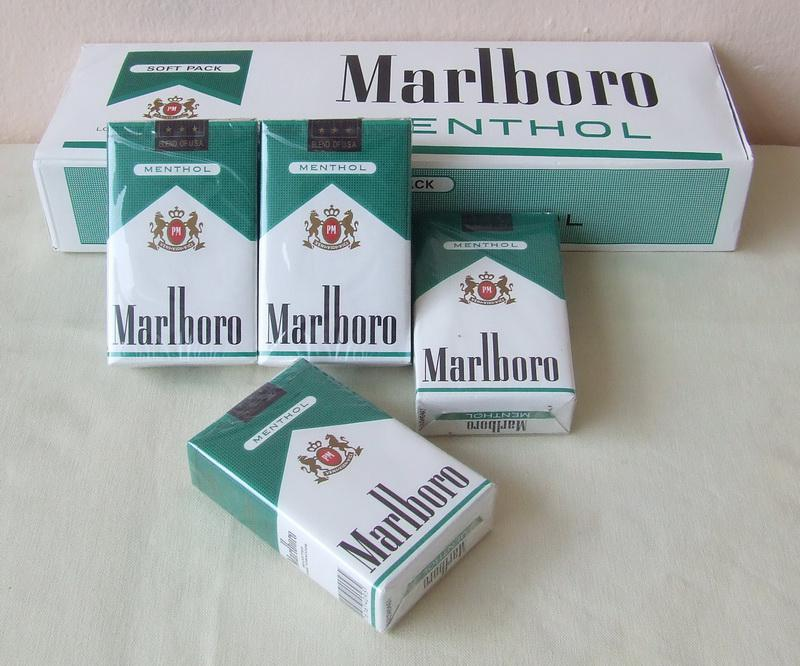marlboro_mentol: (207, 380, 469, 566), (263, 121, 415, 362), (111, 125, 261, 364), (411, 214, 565, 406)
